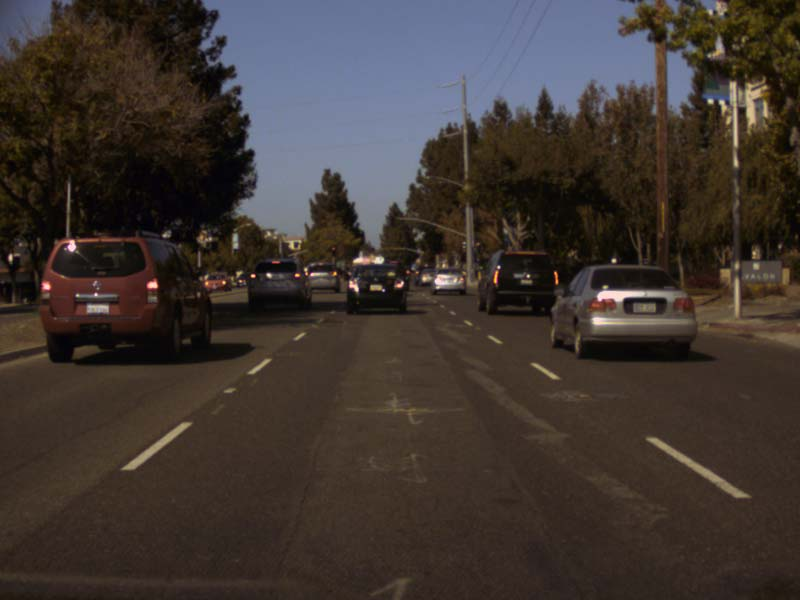Red: (331, 247, 335, 255)
